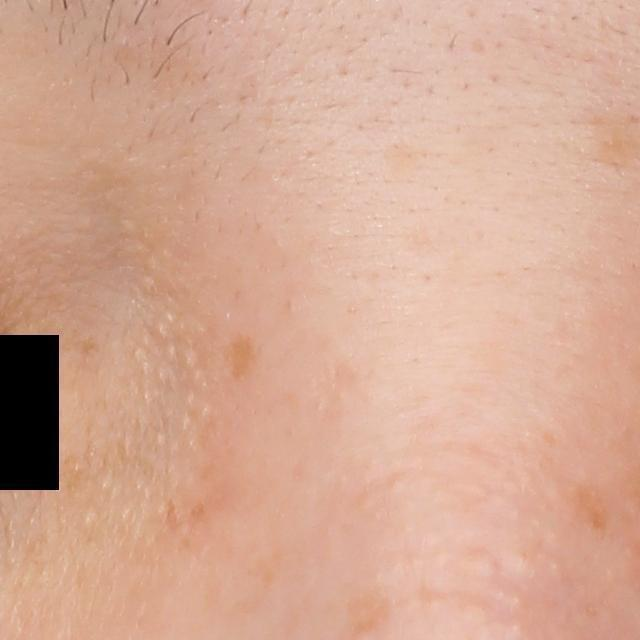melasma: (592, 88, 640, 176), (212, 328, 260, 384), (574, 483, 615, 544), (339, 589, 394, 631)
